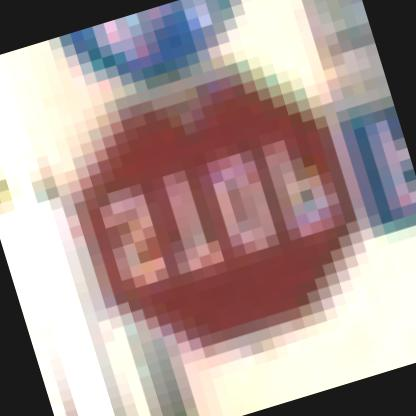stop: (52, 46, 388, 385)
